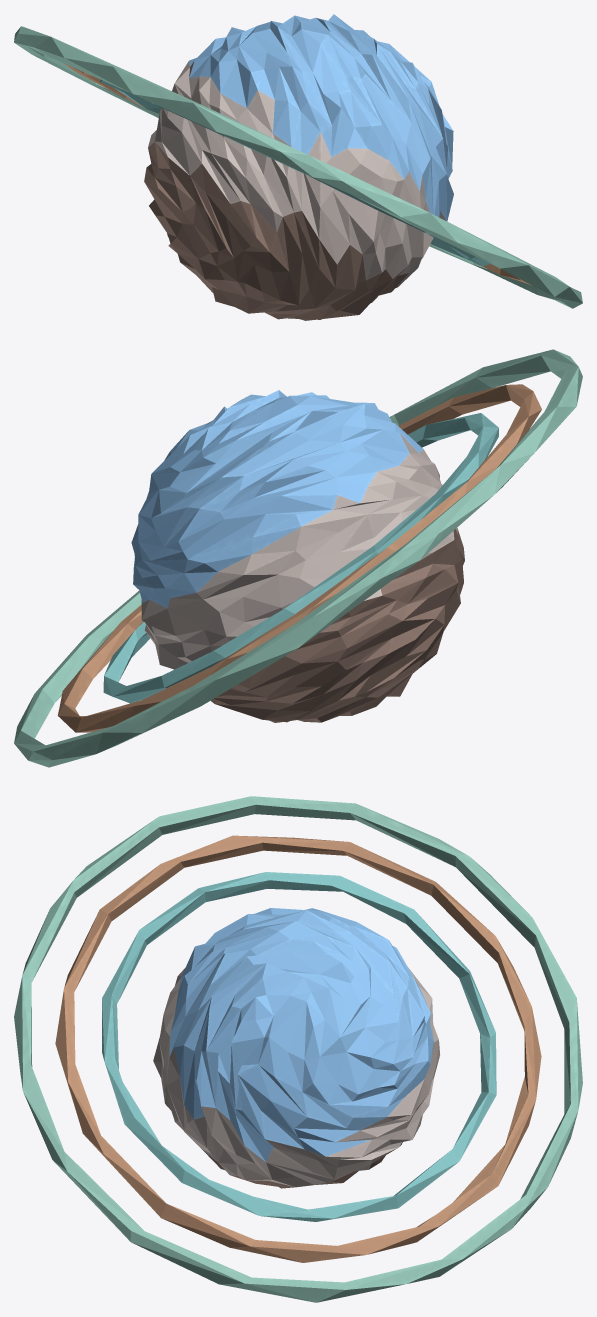
Rendered from Saturn.FBX.
The picture shows the model from 3 angles, top to bottom: view 1: azimuth 30°, elevation 25°; view 2: azimuth 150°, elevation 25°; view 3: azimuth 270°, elevation 25°; orthographic projection. The views are drawn at different scales.
Parts seen in each view (by area): view 1: Saturn; view 2: Saturn; view 3: Saturn.
Part boxes in pixels (x1,y1,x2,y2): Saturn: (14, 14, 582, 320); Saturn: (14, 349, 582, 767); Saturn: (14, 796, 582, 1302).
Bounding box in the file's own units: 1.31 × 0.952 × 1.56.
